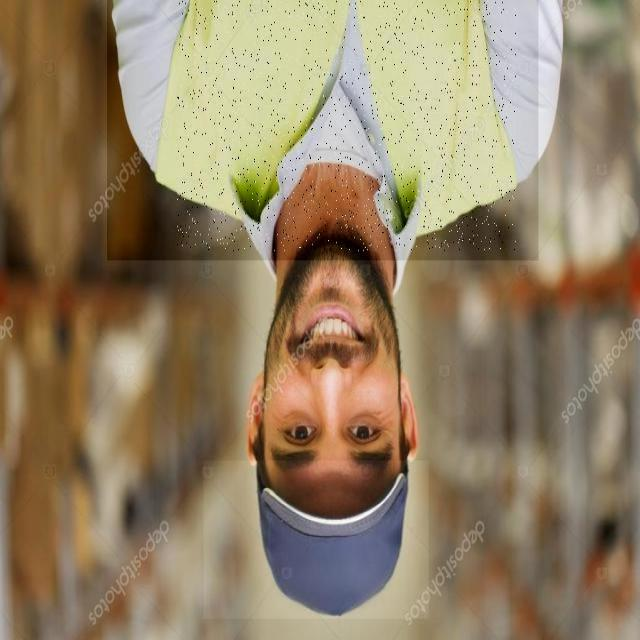Helmet: (204, 461, 428, 618)
Safety Vest: (107, 0, 538, 260)
